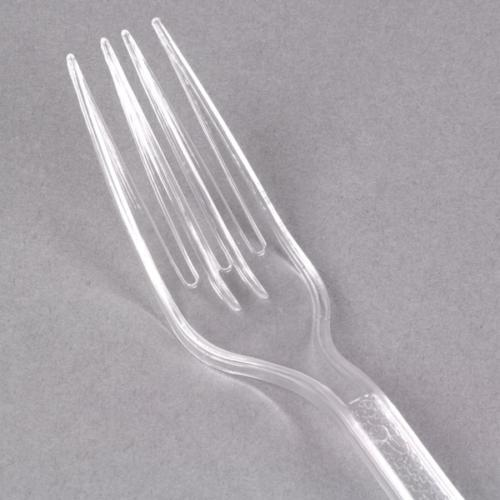Fork: (67, 16, 466, 500)
